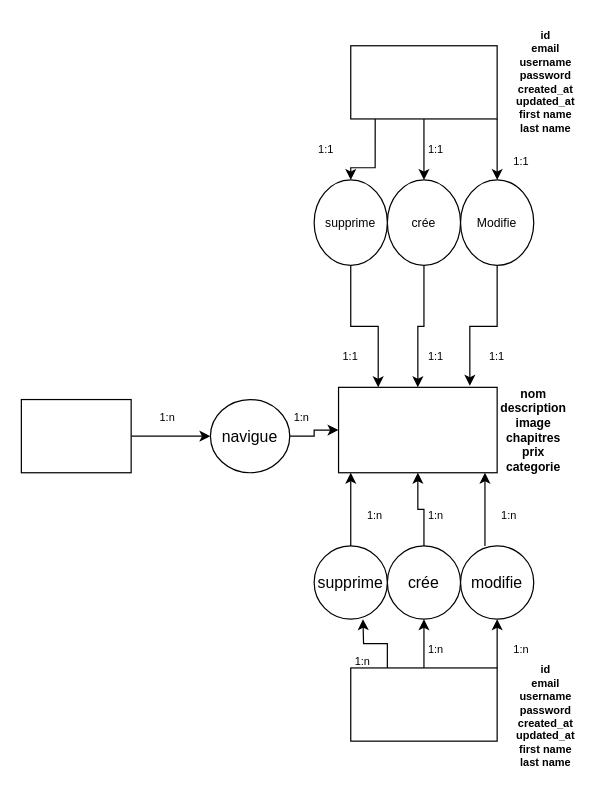
Some shapes in this 604 by 789 pixel diagram are drawn without their labels. Here are the shapes that lost their labels. From the top down, the box of each, then its label:
(350, 45, 497, 119): Users
(20, 398, 131, 473): Visiteurs
(337, 386, 497, 473): Formations
(350, 667, 497, 741): Admin
